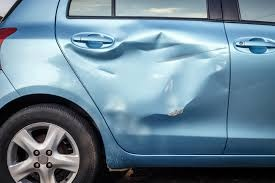Dent: (61, 29, 224, 144)
Scratch: (106, 150, 137, 168)
